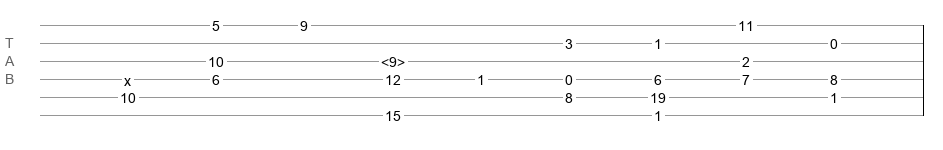0: (565, 72, 573, 82), (830, 36, 838, 46)
1: (477, 72, 485, 82), (654, 36, 662, 46), (654, 108, 662, 118), (830, 90, 838, 100)
10: (120, 90, 136, 100), (208, 54, 224, 64)
11: (738, 18, 754, 28)
12: (385, 72, 401, 82)
15: (385, 108, 401, 118)
19: (650, 90, 666, 100)
2: (742, 54, 750, 64)
3: (565, 36, 573, 46)
5: (212, 18, 220, 28)
6: (212, 72, 220, 82), (654, 72, 662, 82)
7: (742, 72, 750, 82)
8: (565, 90, 573, 100), (830, 72, 838, 82)
9: (300, 18, 308, 28)
harmonic: (381, 54, 405, 64)
x: (124, 73, 131, 81)
